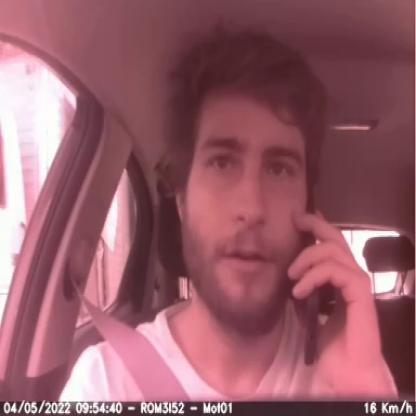phone: (287, 209, 341, 368)
